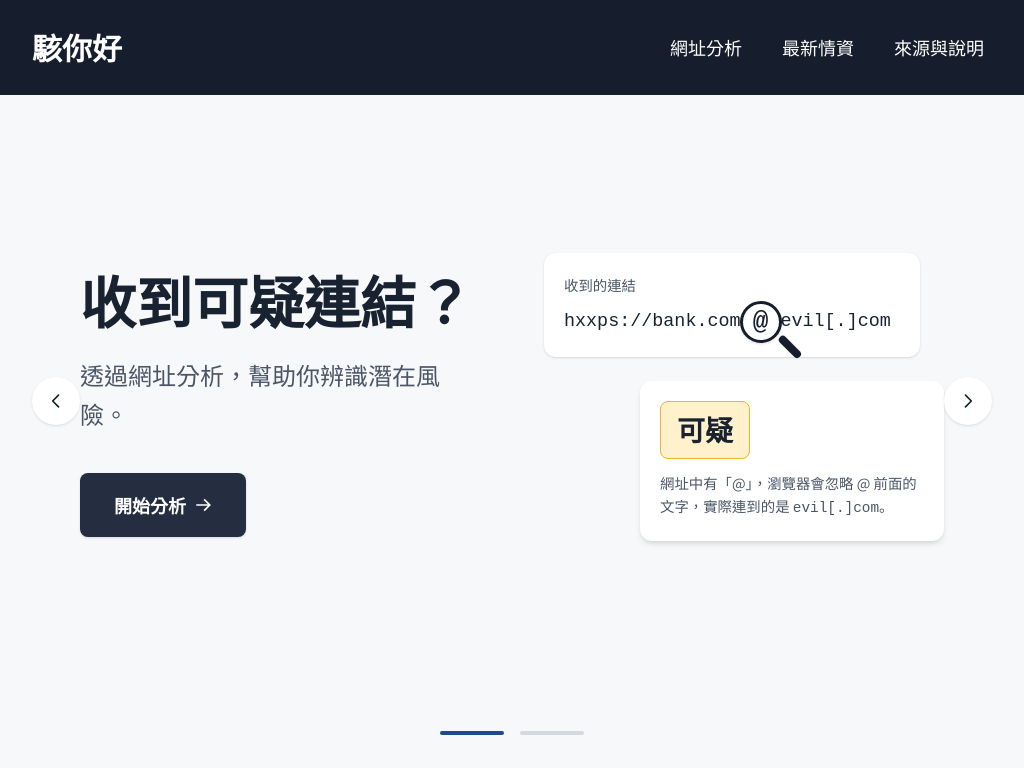
Test: 導覽列 › 點擊連結會切換到對應頁面
Click the link "網址分析" at (706, 47), box [670, 34, 742, 60]
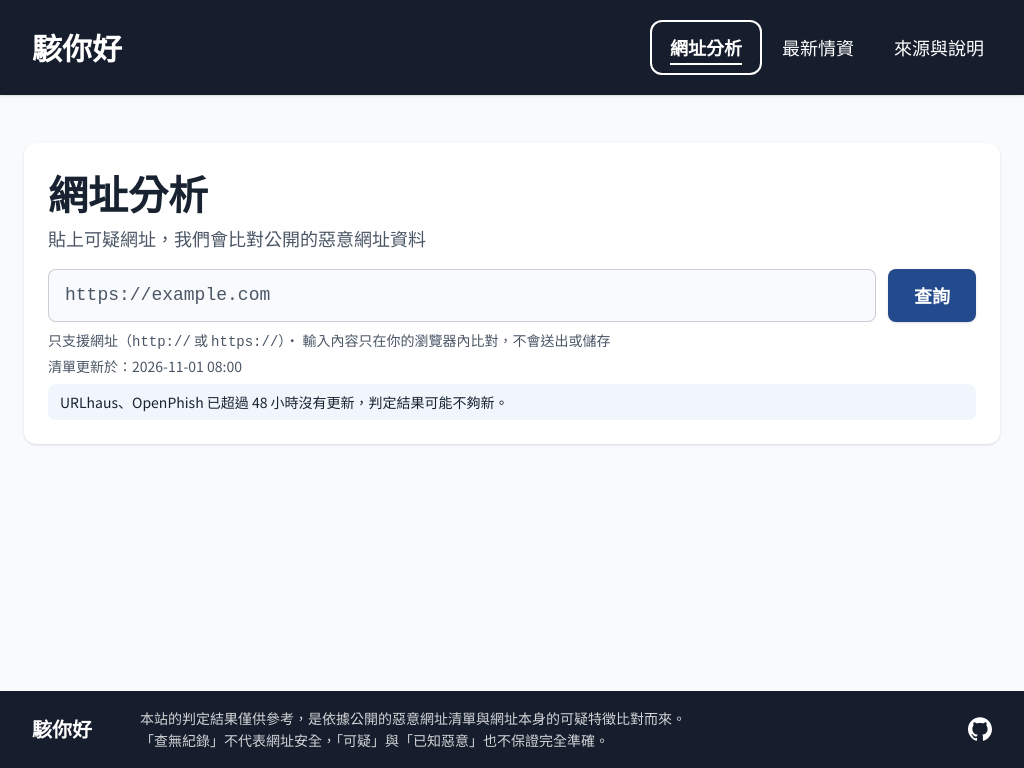
expect the heading "網址分析" is shown: met, box [48, 164, 208, 222]
Click the link "最新情資" at (818, 47), box [782, 34, 854, 60]
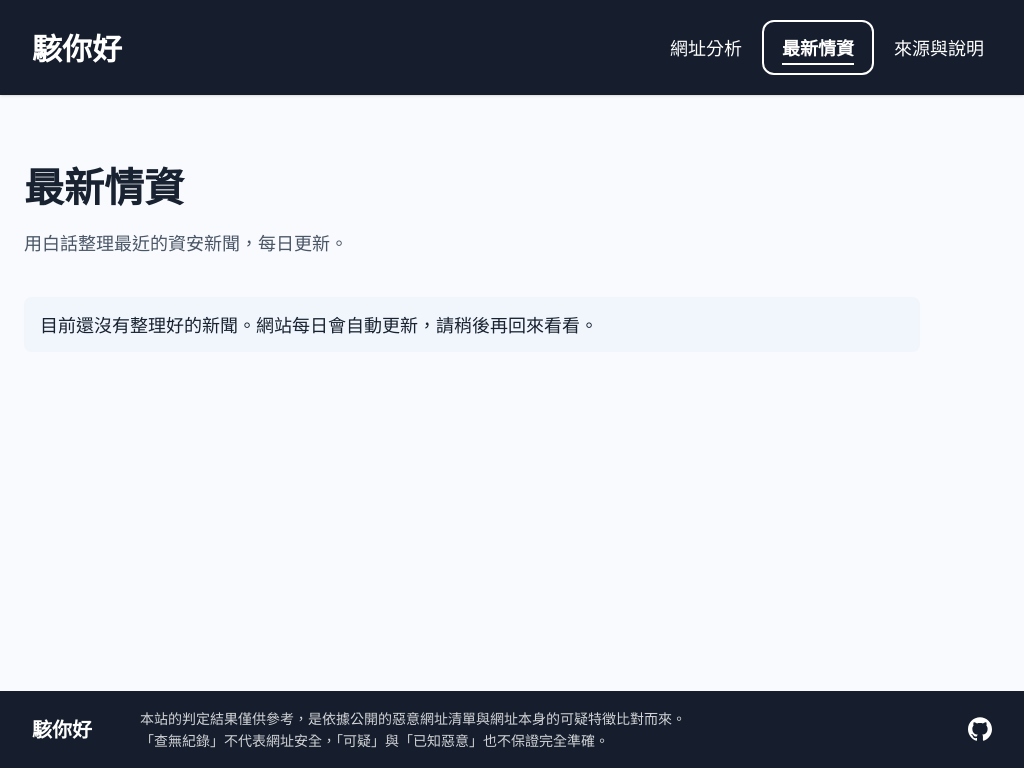
expect the heading "最新情資" is shown: met, box [24, 156, 184, 214]
Click the link "來源與說明" at (939, 47), box [894, 34, 984, 60]
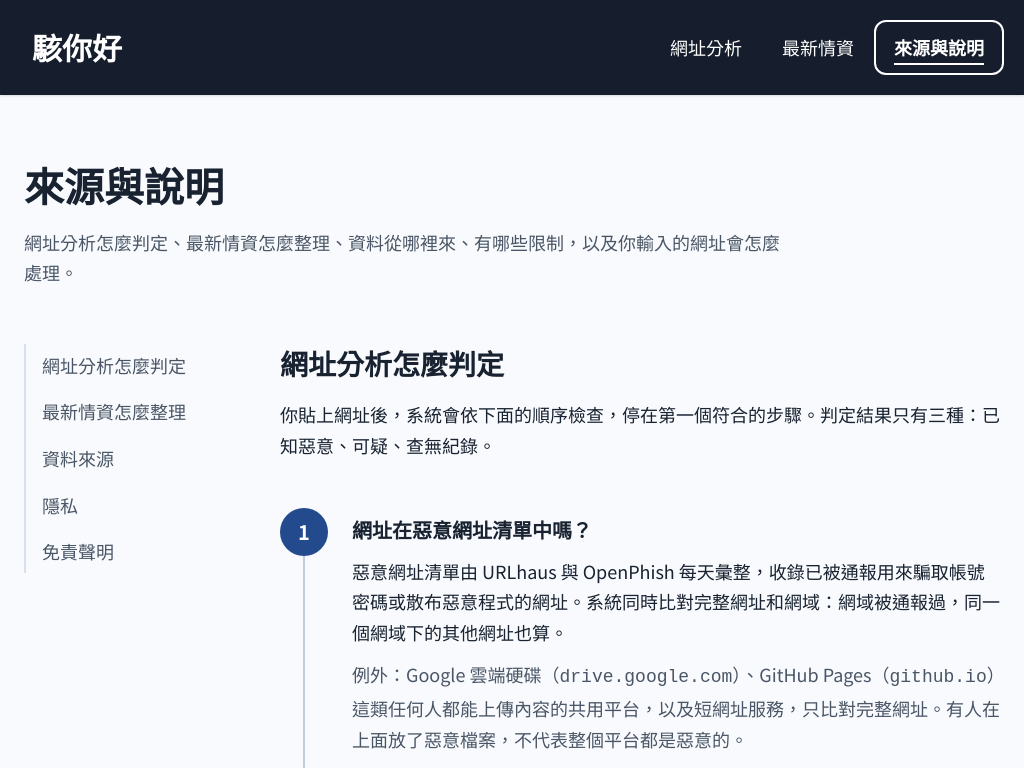
expect the heading "來源與說明" is shown: met, box [24, 156, 224, 214]
